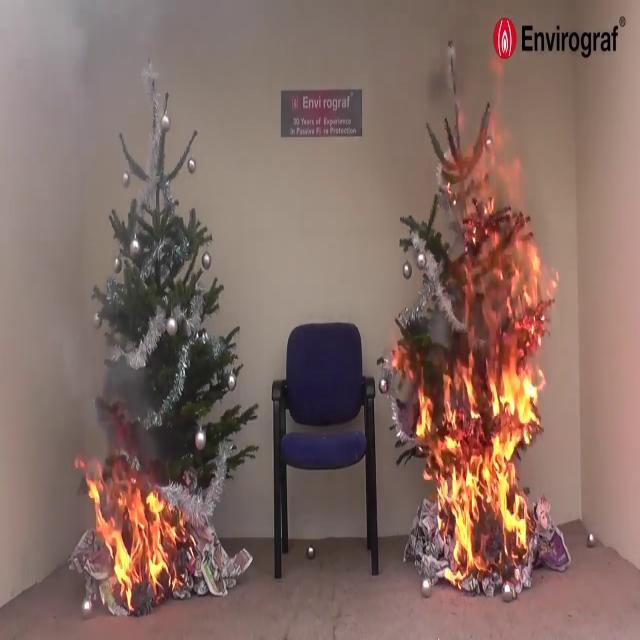Fire: (417, 352, 548, 581), (80, 460, 184, 605)
